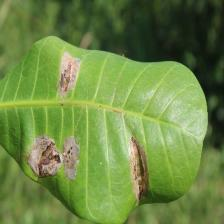leaf miner: (18, 131, 88, 188), (126, 131, 150, 207), (55, 48, 86, 100)
